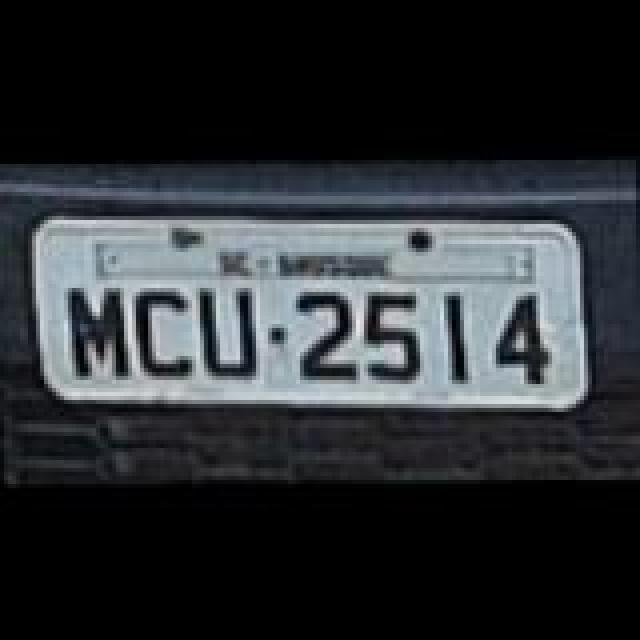1: (446, 290, 474, 382)
2: (298, 292, 358, 384)
4: (496, 294, 552, 386)
5: (366, 290, 426, 382)
C: (134, 288, 194, 380)
M: (70, 286, 130, 378)
U: (198, 290, 258, 382)
